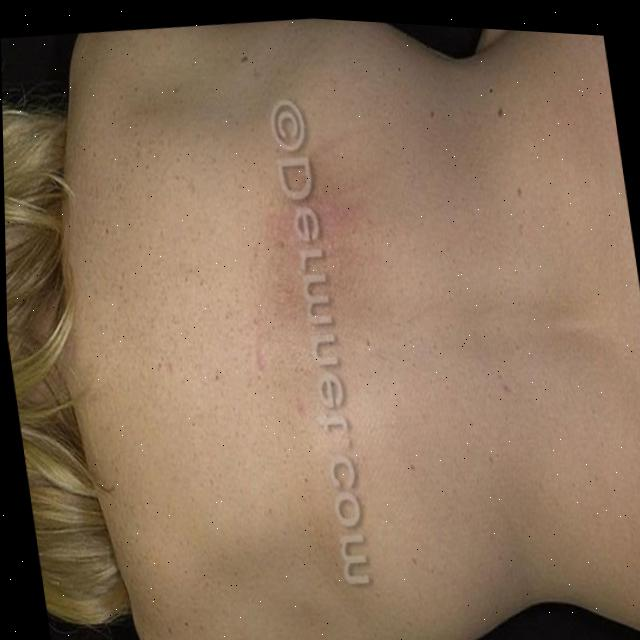Eczema: (233, 188, 386, 383)
